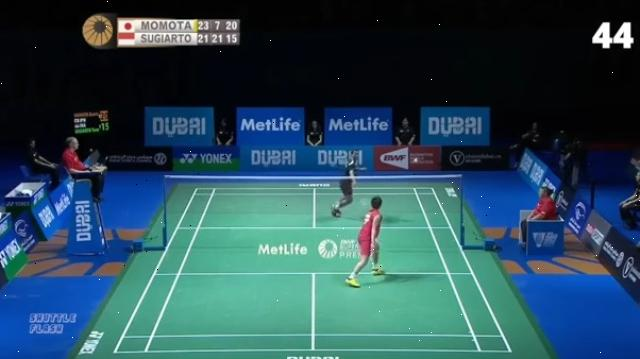Shuttlecock: (411, 156, 422, 166)
